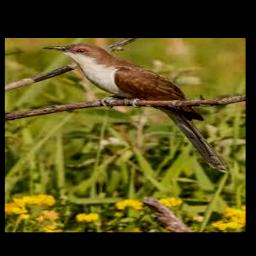Cuckoo: (42, 44, 230, 172)
